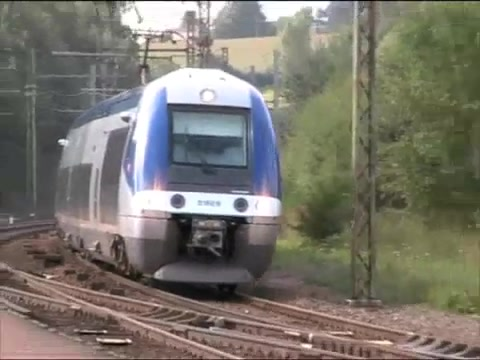train: (52, 69, 286, 293)
